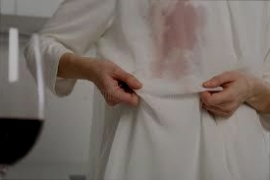wine: (145, 6, 204, 77)
